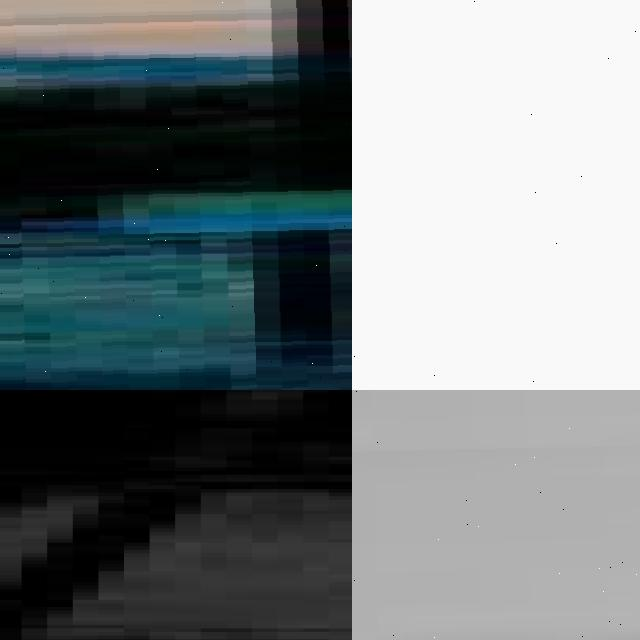street light: (0, 0, 352, 390), (352, 0, 640, 390), (352, 390, 640, 640)
